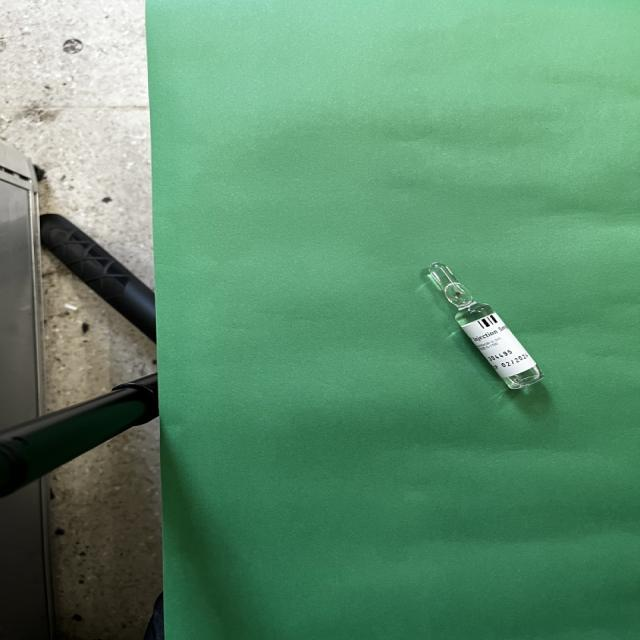Ampoules: (427, 262, 542, 390)
